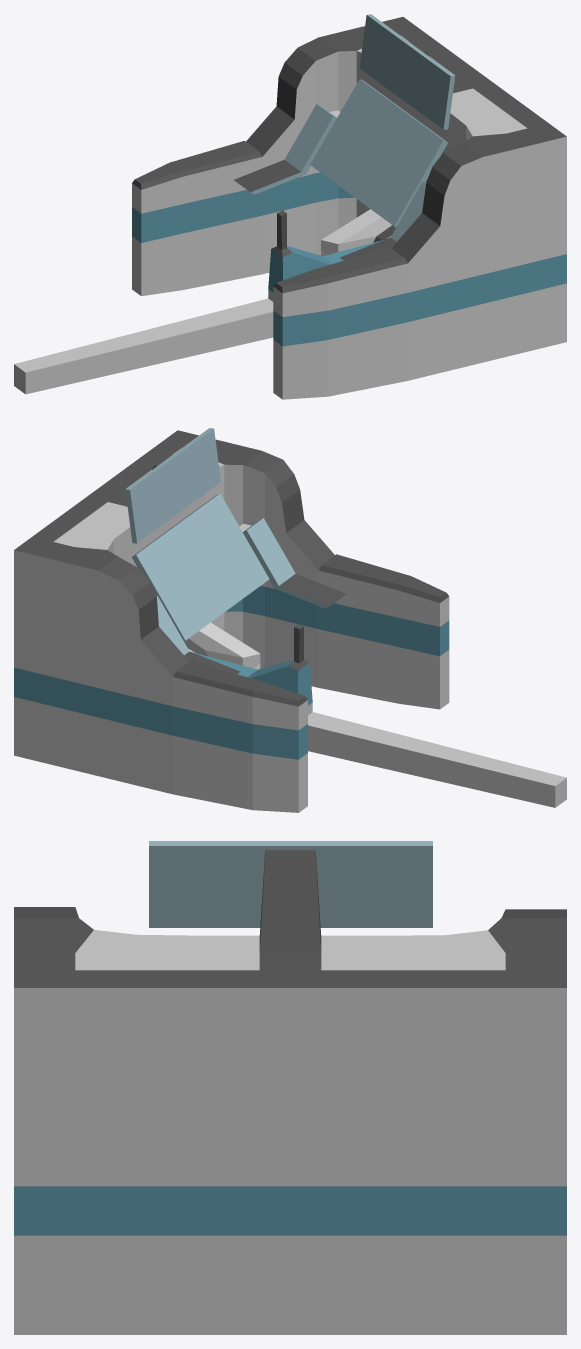
File: ConsoleNavigation.dae
3 views of the same model, one above another, from view 1: azimuth 30°, elevation 25°; view 2: azimuth 150°, elevation 25°; view 3: azimuth 270°, elevation 25° (orthographic). The views are drawn at different scales.
Visible parts, largest first — view 1: ConsoleNavigation; view 2: ConsoleNavigation; view 3: ConsoleNavigation.
Boxes of the visible parts, <box> form: ConsoleNavigation: <box>14,14,566,399</box>; ConsoleNavigation: <box>14,428,566,812</box>; ConsoleNavigation: <box>14,841,566,1334</box>.
Bounding box in the file's own units: 3.34 × 2.03 × 1.75.
